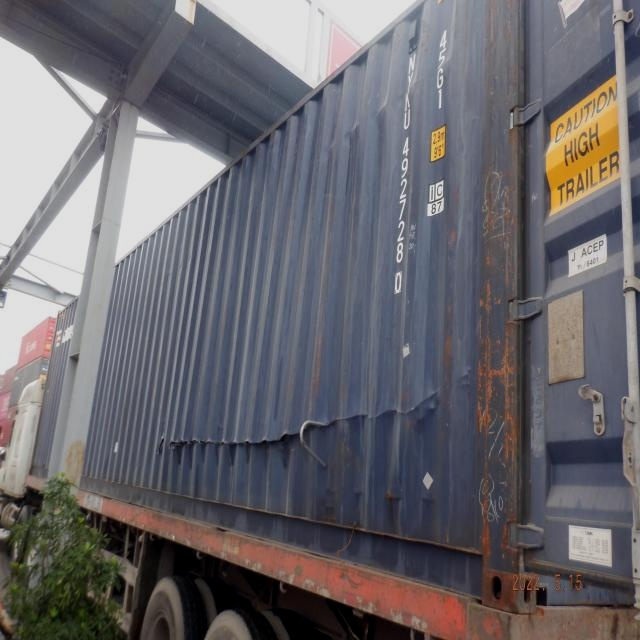Hole: (261, 432, 298, 448), (170, 439, 208, 450), (159, 438, 166, 453), (245, 441, 251, 447)
